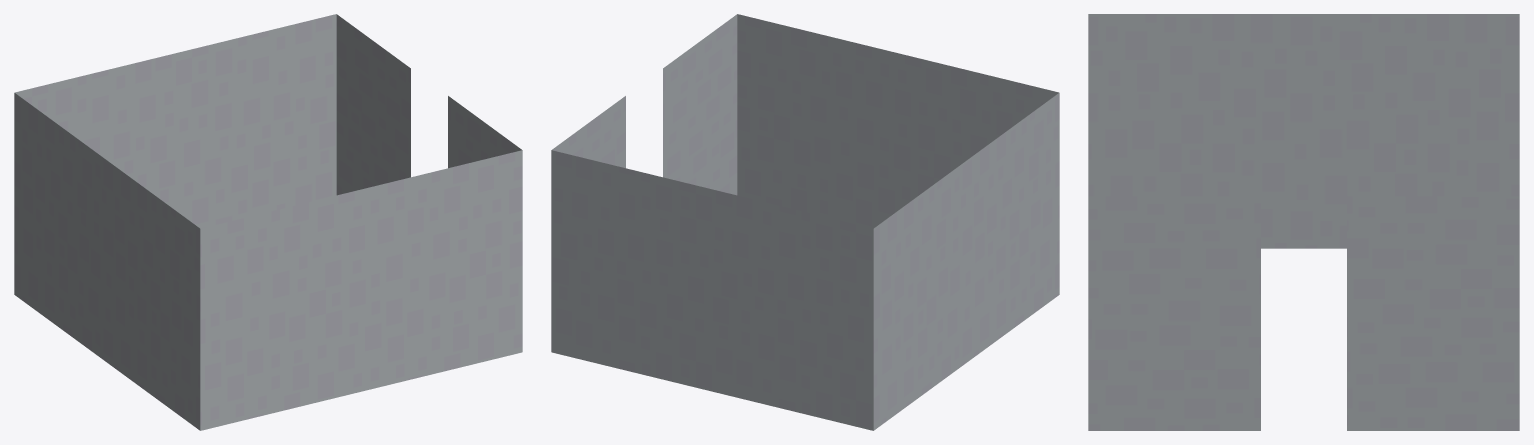
The model's file is fishing_s486-511.glb.
The picture shows the model from 3 angles, left to right: view 1: azimuth 30°, elevation 25°; view 2: azimuth 150°, elevation 25°; view 3: azimuth 270°, elevation 25°; orthographic projection. The views are drawn at different scales.
Visible parts, largest first — view 1: fishing_s486-511; view 2: fishing_s486-511; view 3: fishing_s486-511.
Boxes of the visible parts, left/top/right/bottom form: fishing_s486-511: left=14, top=14, right=522, bottom=430; fishing_s486-511: left=551, top=14, right=1059, bottom=430; fishing_s486-511: left=1088, top=14, right=1519, bottom=430.
Size of what is drawn, in the model's own units: 5 by 3 by 5.
1 material, 1 textured.
